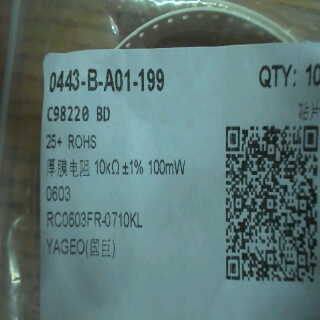10kR: (92, 155, 123, 178)
